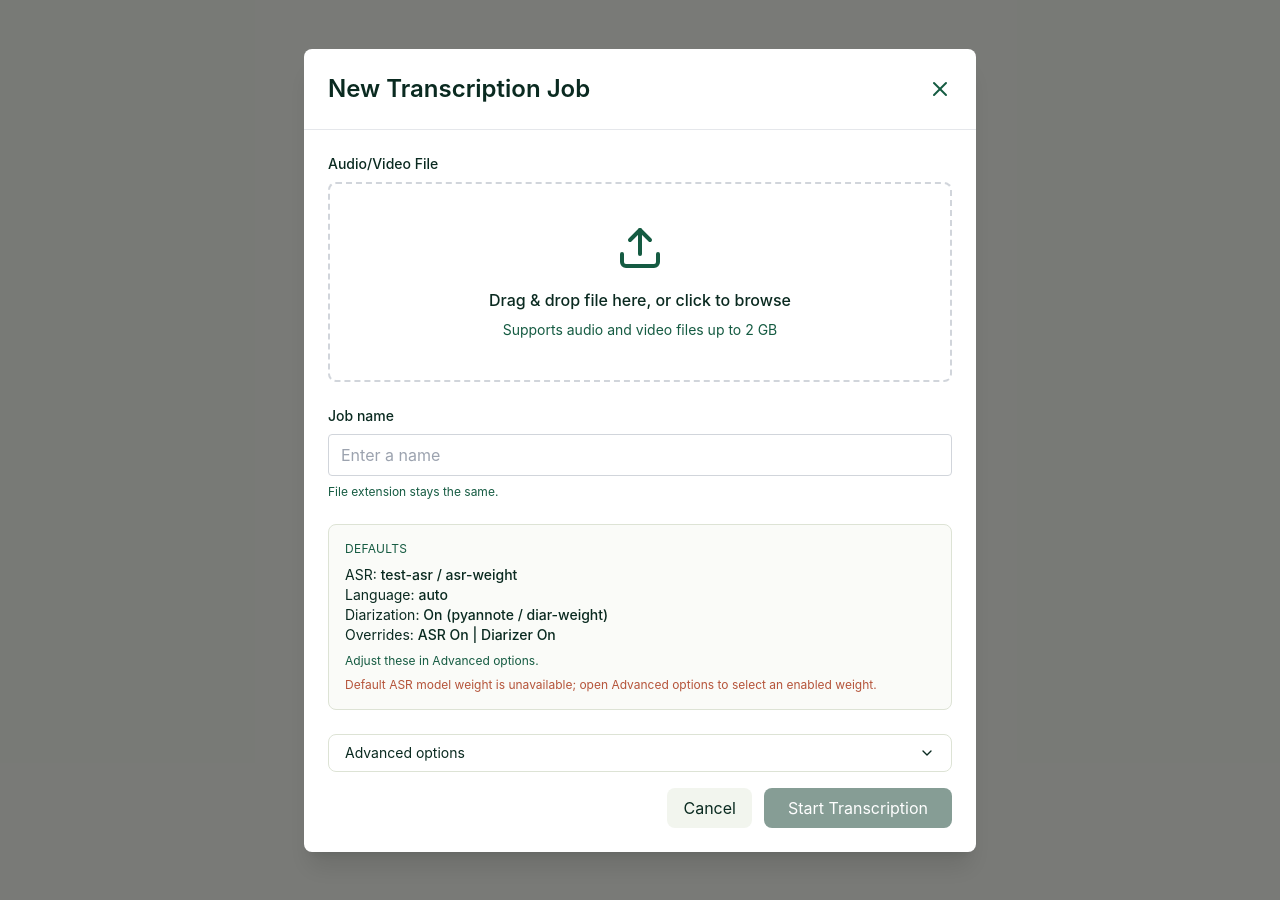
it: NewJobModal › has timestamps checkbox checked by default
The width and height of the screenshot is (1280, 900).
What coordinates should you click on to do the following:
click the button with test id "advanced-toggle"
I would click on:
 (405, 752)
Its box is [328,734,952,772].
(page scrolled)
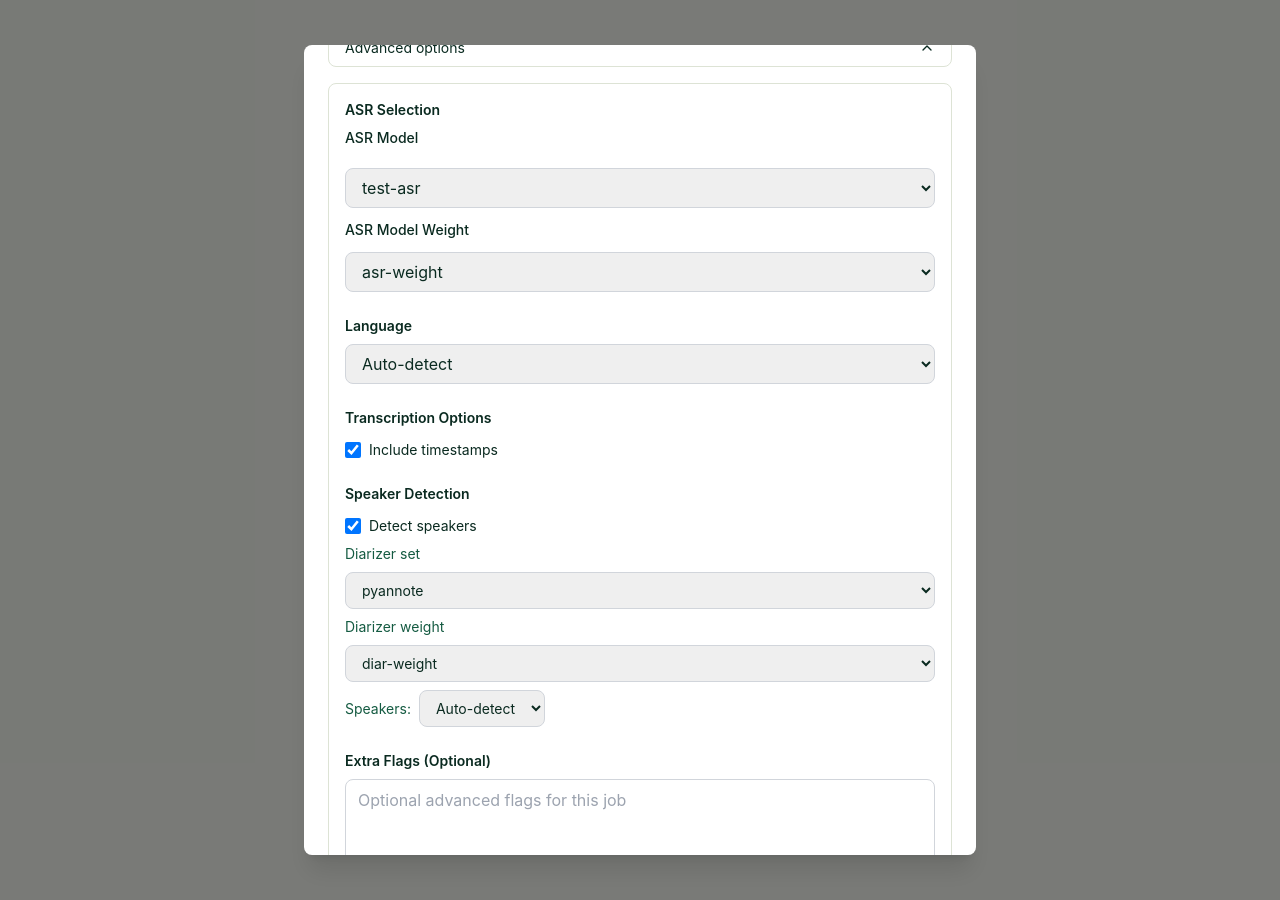
Result: the element with test id "advanced-panel" is shown at [328,83,952,855]
Result: the checkbox labelled "Include timestamps" is checked at [345,442,361,458]
